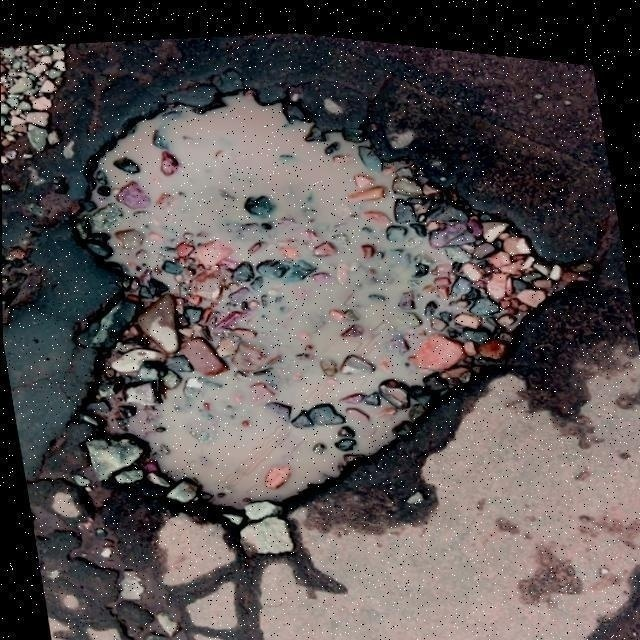pothole: (23, 9, 610, 568)
